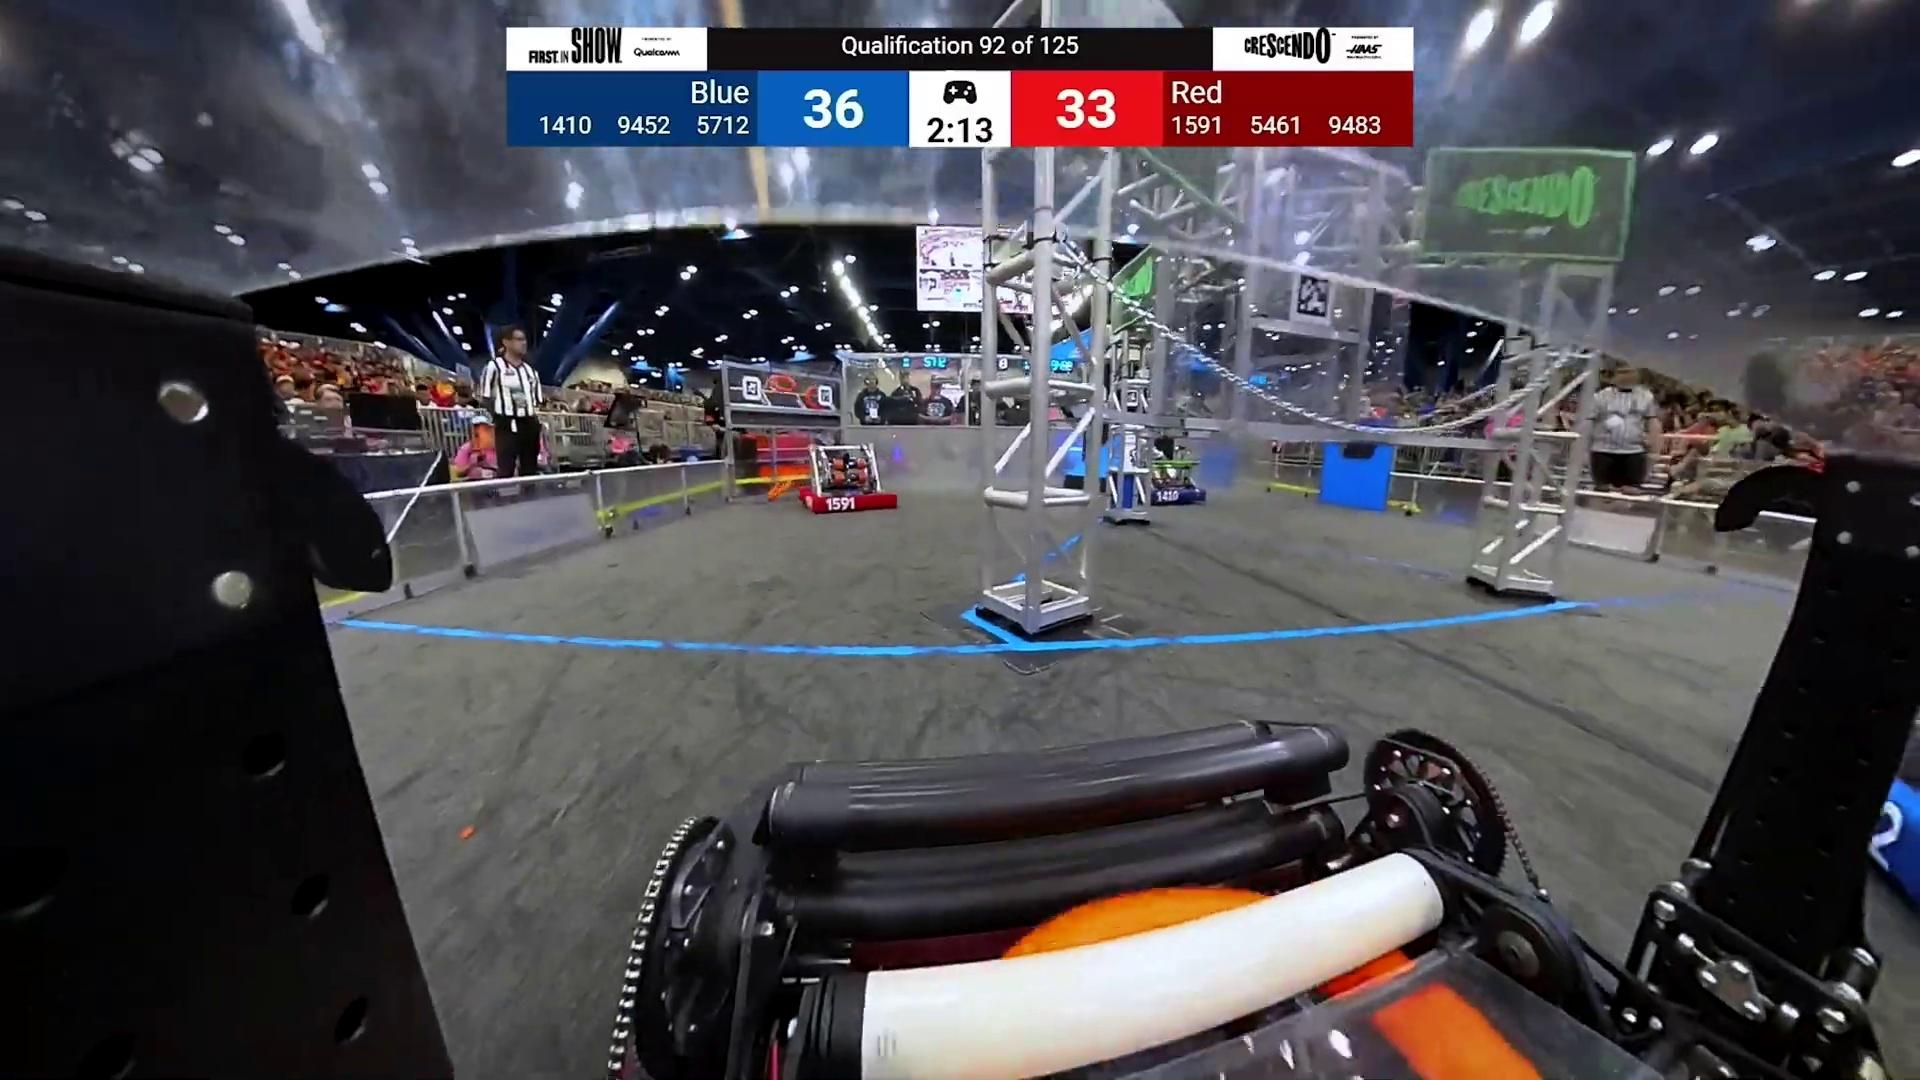robot: (800, 442, 899, 516), (1155, 423, 1208, 505)
